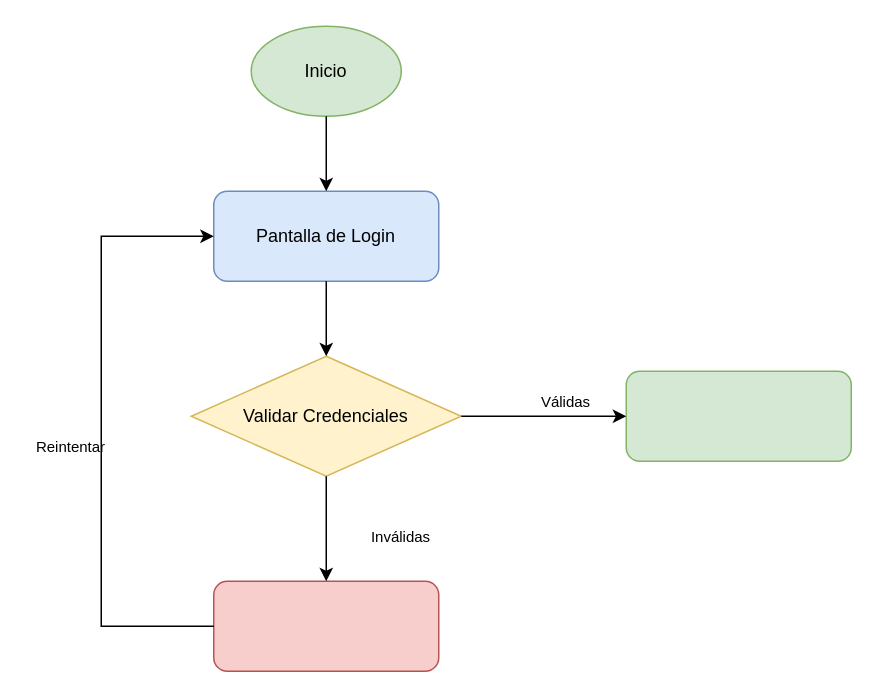
This 878x698 diagram has some shape labels left out. The shapes that lost their labels are listed below. From the top down, each one's centre as x and y in pixels, then its label:
the point at 738,415: Dashboard Principal
the point at 325,625: Error de Login
